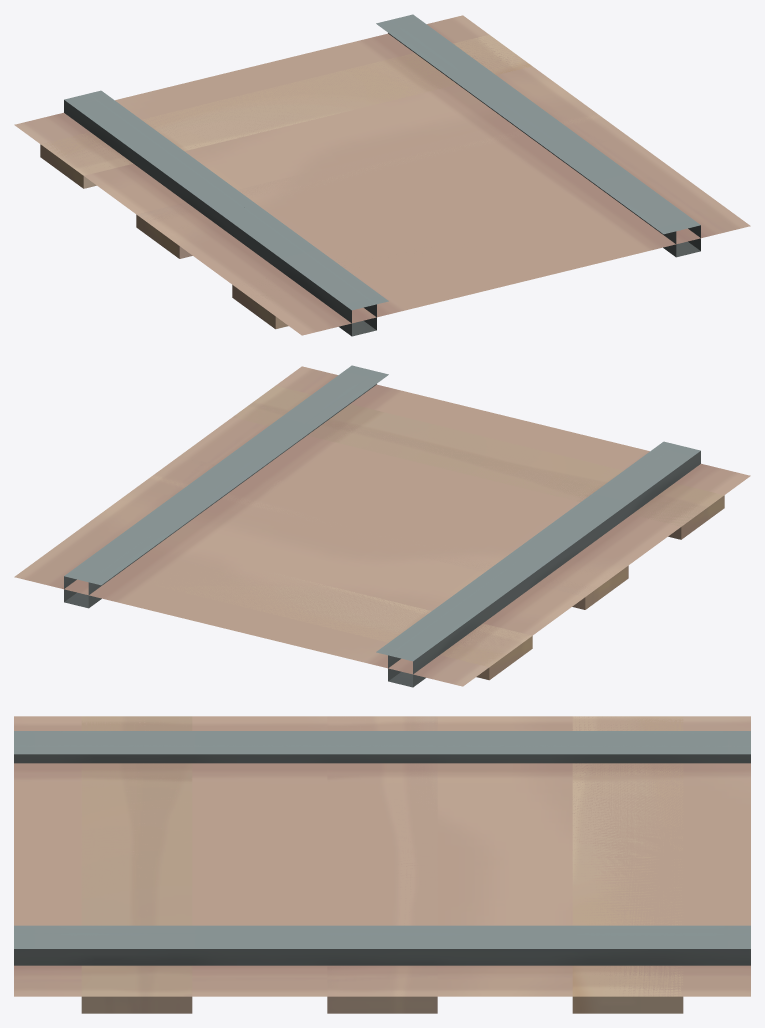
File: Rail-01.fbx
3 renders of one model, top to bottom at view 1: azimuth 30°, elevation 25°; view 2: azimuth 150°, elevation 25°; view 3: azimuth 270°, elevation 25°, orthographic. The views are drawn at different scales.
Parts seen in each view (by area): view 1: Rail-01.COL, Rail-01; view 2: Rail-01.COL, Rail-01; view 3: Rail-01.COL, Rail-01.
Boxes of the visible parts, left/top/right/bottom form: Rail-01.COL: left=14, top=15, right=750, bottom=335; Rail-01: left=40, top=14, right=700, bottom=336; Rail-01.COL: left=14, top=366, right=750, bottom=686; Rail-01: left=64, top=365, right=724, bottom=687; Rail-01.COL: left=14, top=716, right=750, bottom=996; Rail-01: left=14, top=716, right=750, bottom=1013.
Size of the model in its own units: 1.8 by 0.1 by 2.
